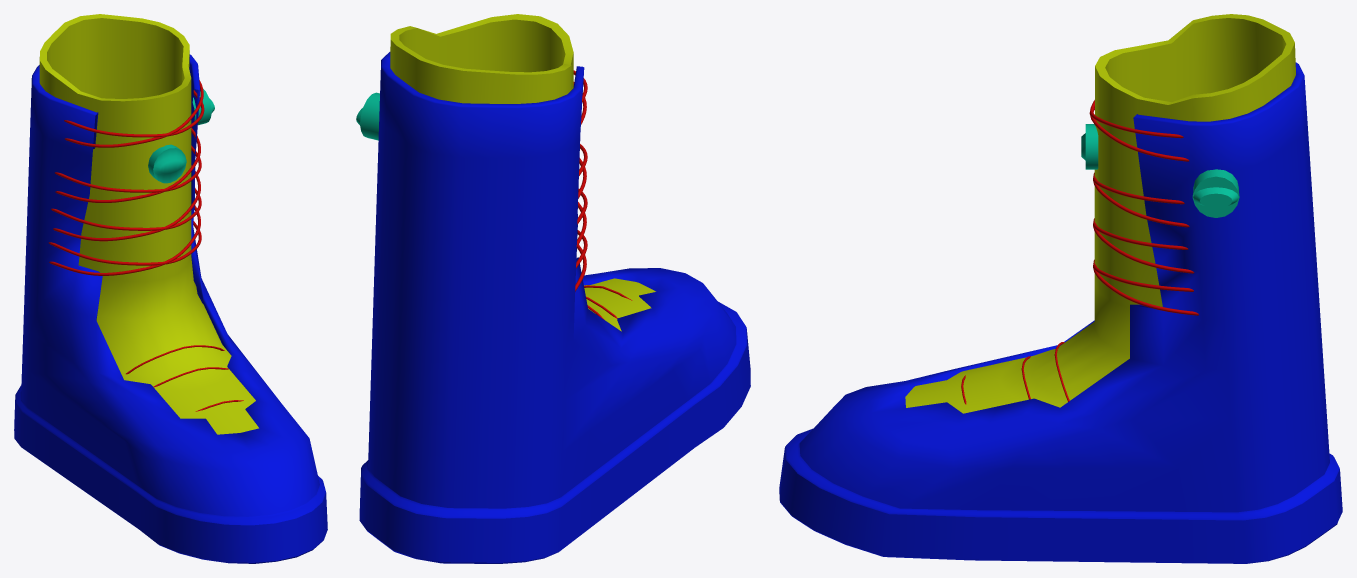
The model's file is shosel.fbx.
3 renders of one model, left to right at view 1: azimuth 30°, elevation 25°; view 2: azimuth 150°, elevation 25°; view 3: azimuth 270°, elevation 25°, orthographic. The views are drawn at different scales.
Parts seen in each view (by area): view 1: shoseL; view 2: shoseL; view 3: shoseL.
Boxes of the visible parts, bbox=[...] form: shoseL: bbox=[14, 14, 327, 563]; shoseL: bbox=[356, 14, 750, 563]; shoseL: bbox=[779, 14, 1342, 563].
Size of the model in its own units: 13.83 by 30.11 by 32.34.
